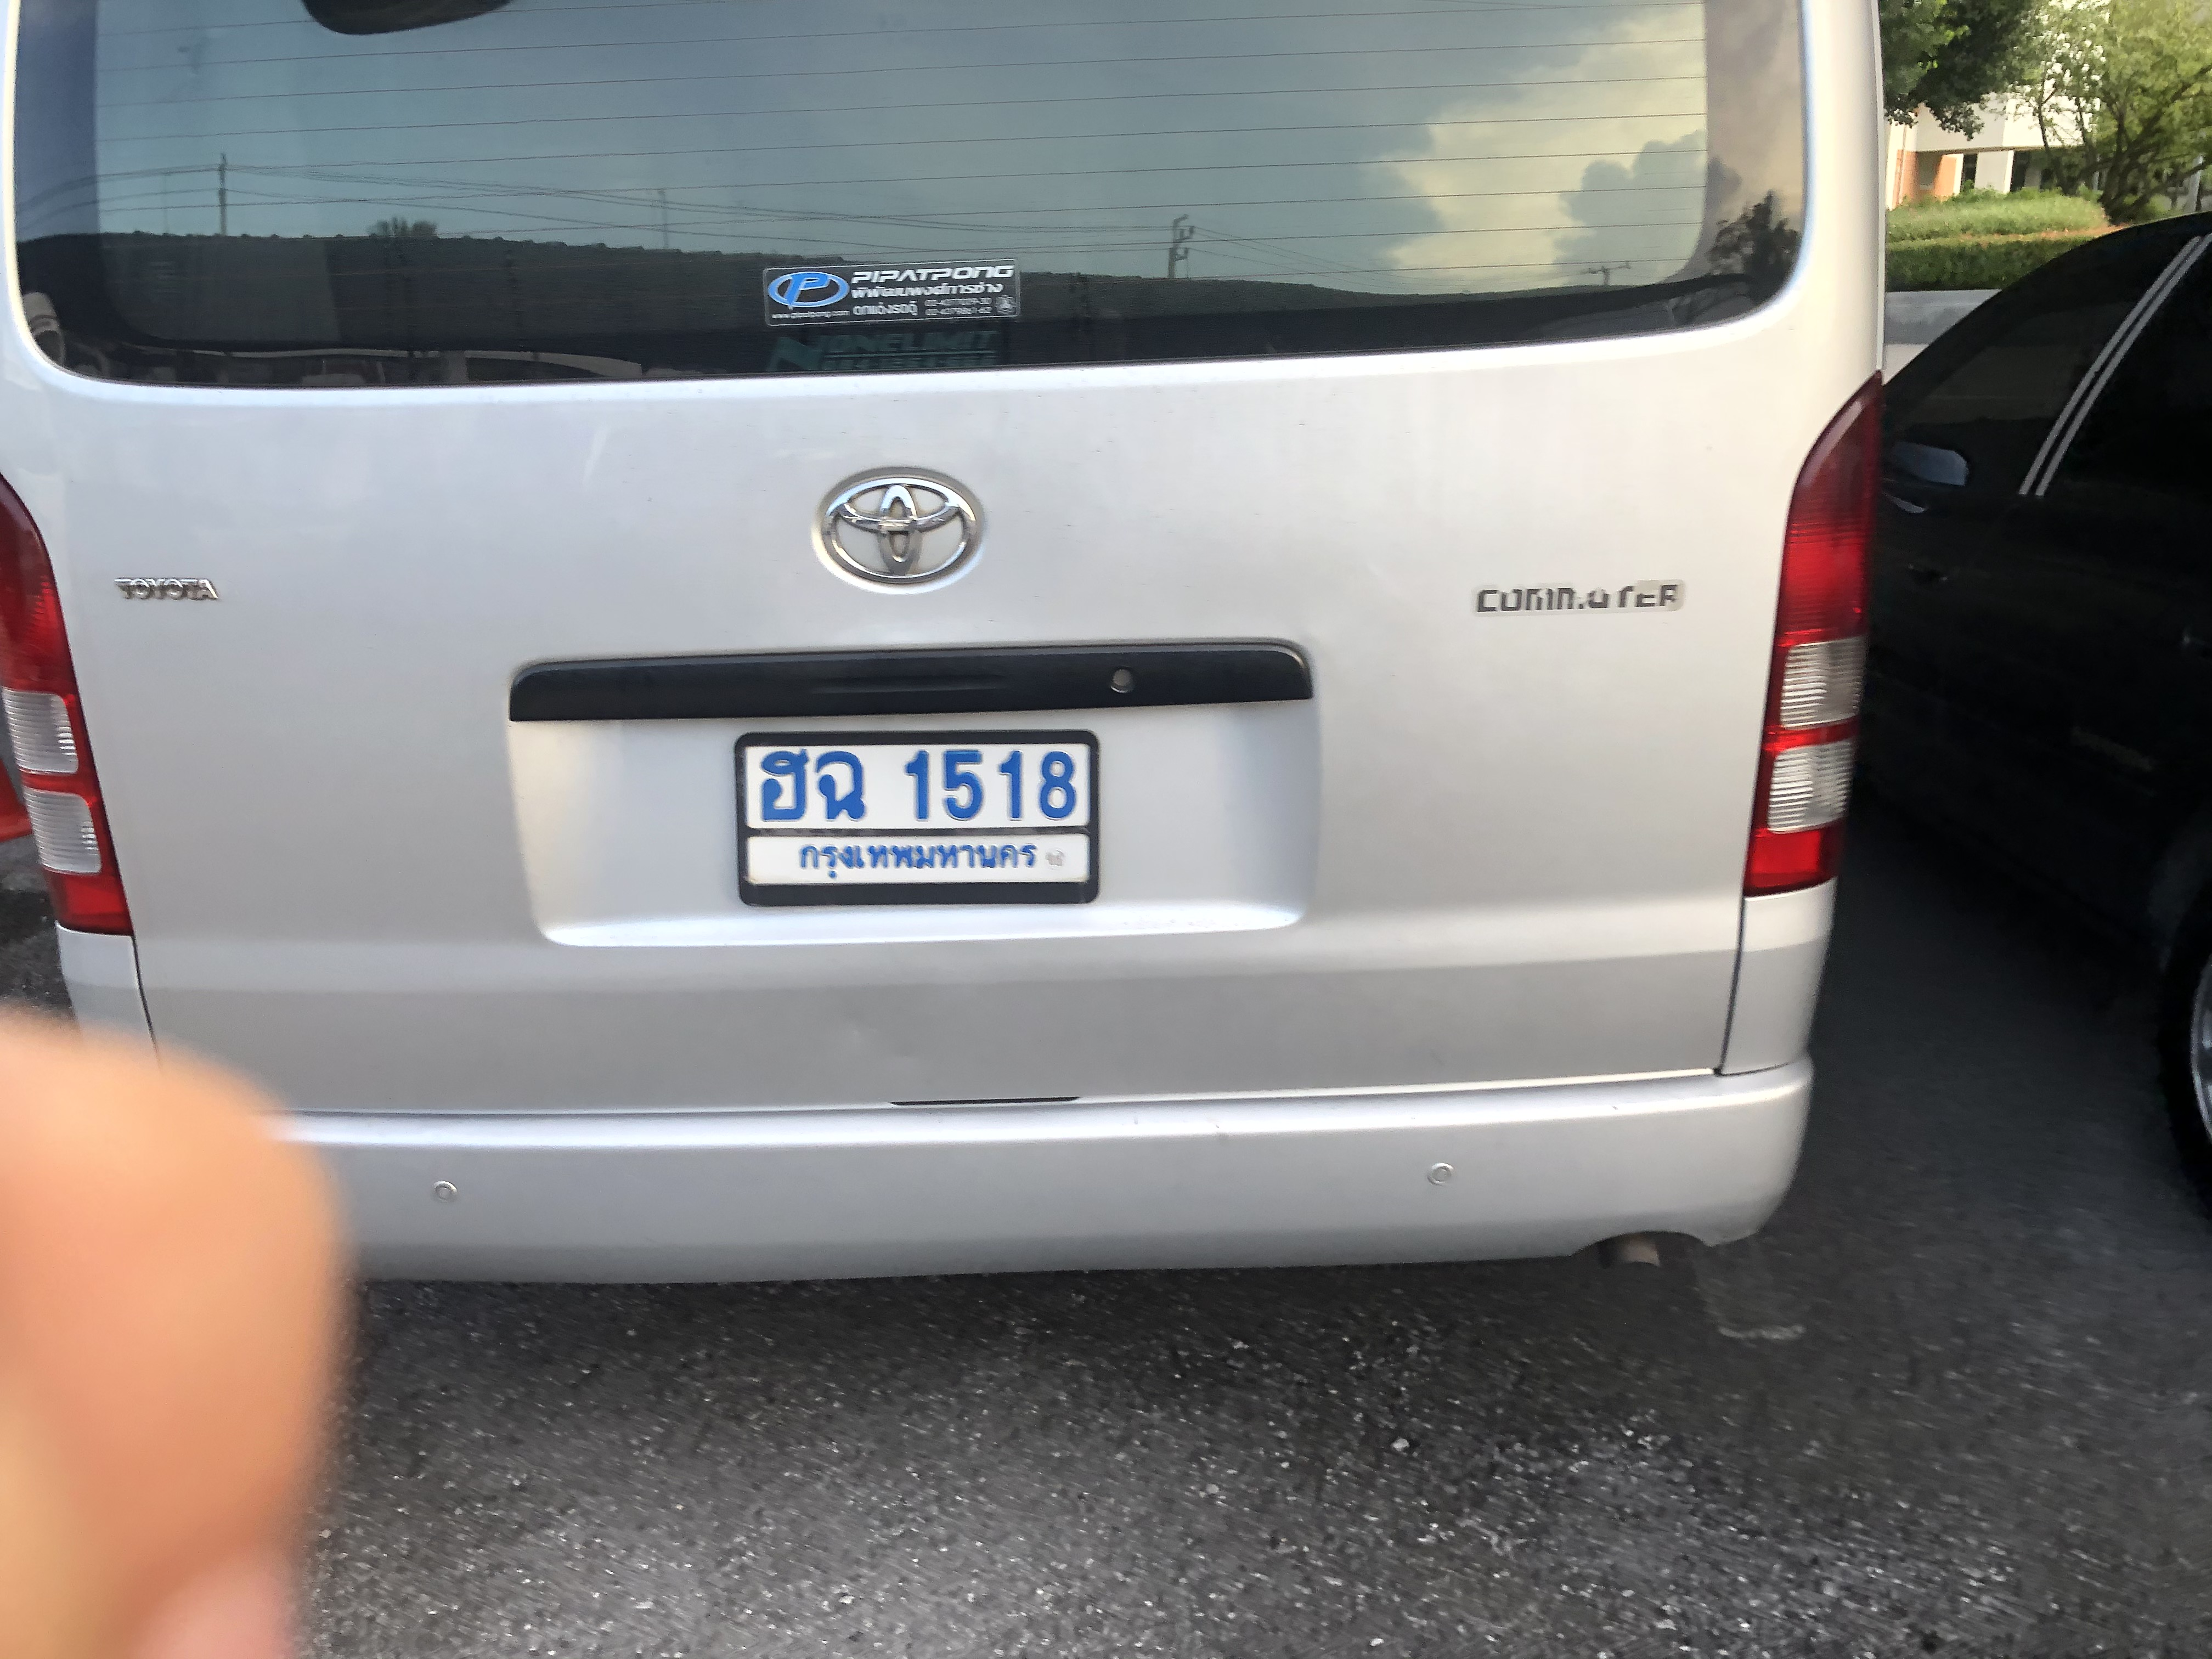in: (744, 742, 1087, 880)
out: (730, 727, 1104, 915)
